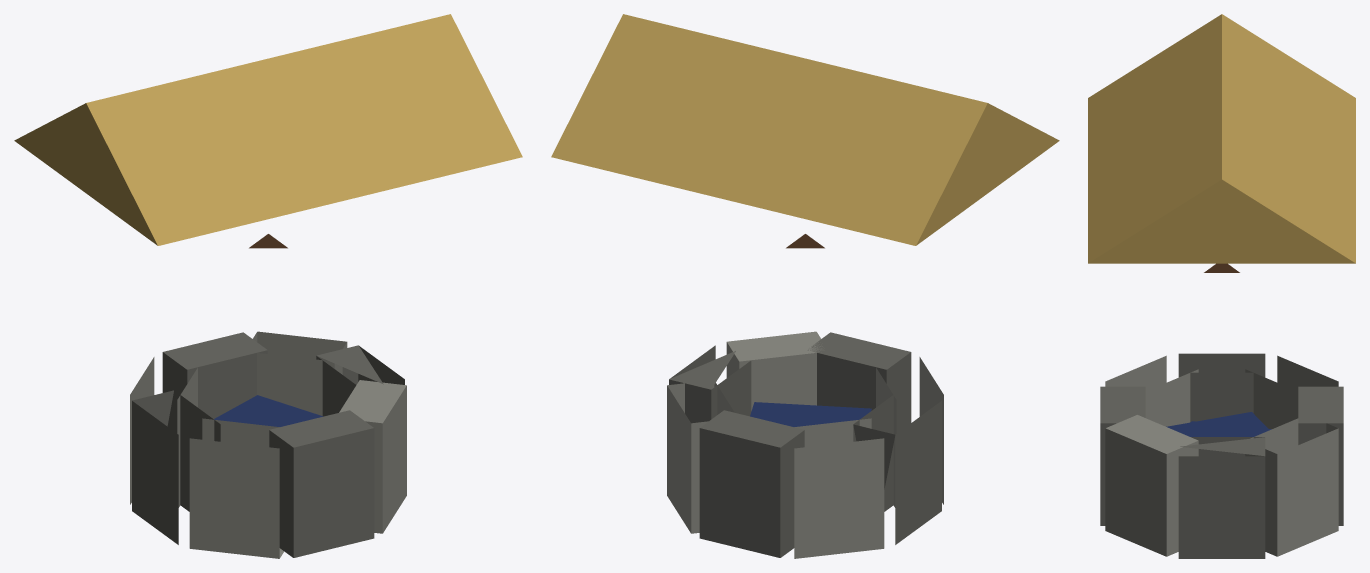
Rendered from prop_umul_lod1.glb.
The picture shows the model from 3 angles, left to right: view 1: azimuth 30°, elevation 25°; view 2: azimuth 150°, elevation 25°; view 3: azimuth 270°, elevation 25°; orthographic projection. The views are drawn at different scales.
Visible parts, largest first — view 1: prop_umul_lod1; view 2: prop_umul_lod1; view 3: prop_umul_lod1.
Boxes of the visible parts, x1,y1,x2,y2 form: prop_umul_lod1: (14, 14, 522, 558); prop_umul_lod1: (551, 14, 1059, 558); prop_umul_lod1: (1088, 14, 1355, 558).
Bounding box in the file's own units: 1.9 × 2.2 × 1.3.
